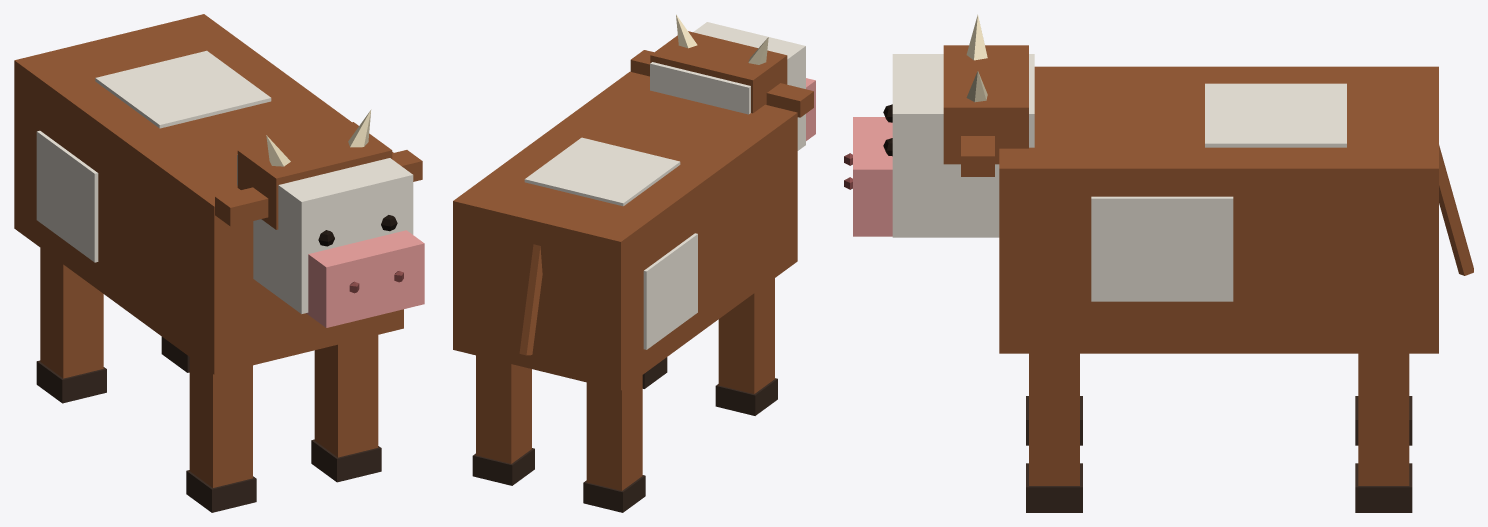
The model's file is COW.glb.
The picture shows the model from 3 angles, left to right: view 1: azimuth 30°, elevation 25°; view 2: azimuth 150°, elevation 25°; view 3: azimuth 270°, elevation 25°; orthographic projection. The views are drawn at different scales.
Visible parts, largest first — view 1: body, head, cow, leg_fl, leg_fr, leg_bl, leg_br; view 2: body, head, cow, leg_bl, leg_br, leg_fl, leg_fr; view 3: body, head, cow, leg_br, leg_fr.
Part boxes in pixels (x1,y1,x2,y2): body: (14, 14, 403, 374); head: (215, 109, 424, 327); cow: (36, 50, 271, 262); leg_fl: (186, 357, 256, 512); leg_fr: (311, 335, 381, 482); leg_bl: (36, 248, 106, 403); leg_br: (161, 337, 189, 372); body: (453, 71, 797, 390); head: (630, 14, 815, 150); cow: (519, 137, 697, 355); leg_bl: (583, 375, 645, 512); leg_br: (472, 355, 534, 485); leg_fl: (715, 278, 777, 415); leg_fr: (642, 357, 667, 388); body: (999, 66, 1438, 353); head: (844, 14, 1034, 237); cow: (1091, 83, 1473, 301); leg_br: (1355, 353, 1412, 512); leg_fr: (1026, 353, 1082, 512).
Size of the model in its own units: 0.88 by 1.65 by 2.22.
